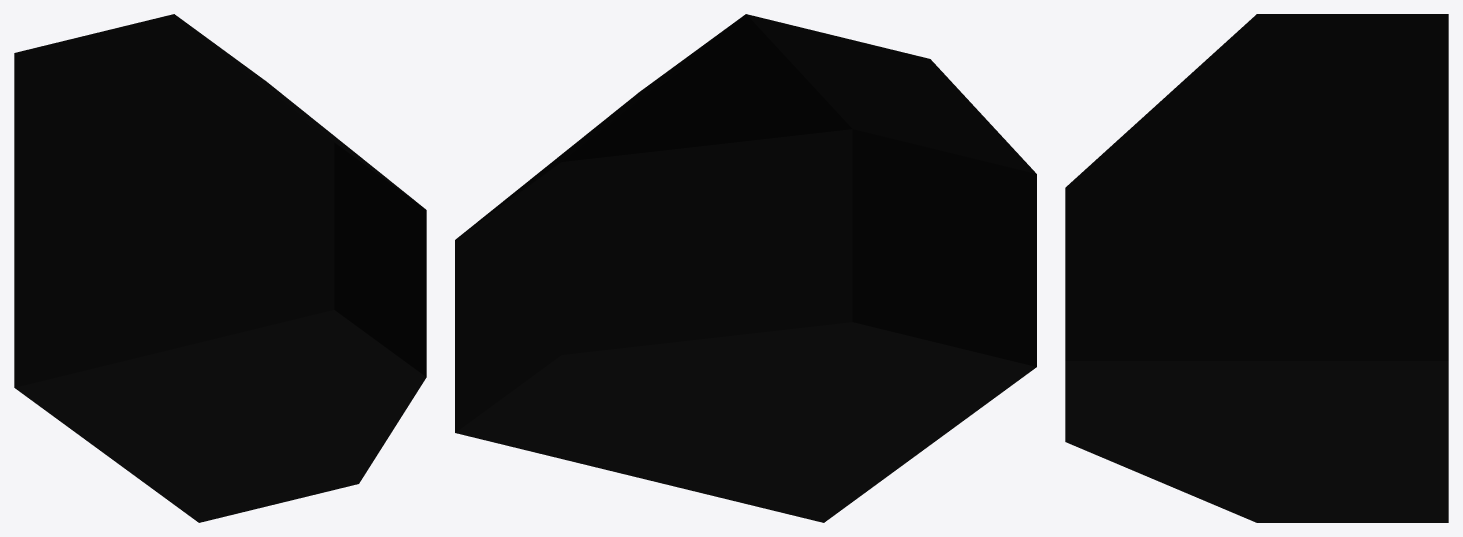
Rendered from r5c6_border_black.gltf.
The picture shows the model from 3 angles, left to right: view 1: azimuth 30°, elevation 25°; view 2: azimuth 150°, elevation 25°; view 3: azimuth 270°, elevation 25°; orthographic projection. The views are drawn at different scales.
Parts seen in each view (by area): view 1: r5c6_border_black; view 2: r5c6_border_black; view 3: r5c6_border_black.
Part boxes in pixels (x1,y1,x2,y2): r5c6_border_black: [14, 14, 426, 522]; r5c6_border_black: [455, 14, 1036, 522]; r5c6_border_black: [1065, 14, 1448, 522].
Size of the model in its own units: 2.1 by 2.1 by 2.1.
1 material, 1 textured.
